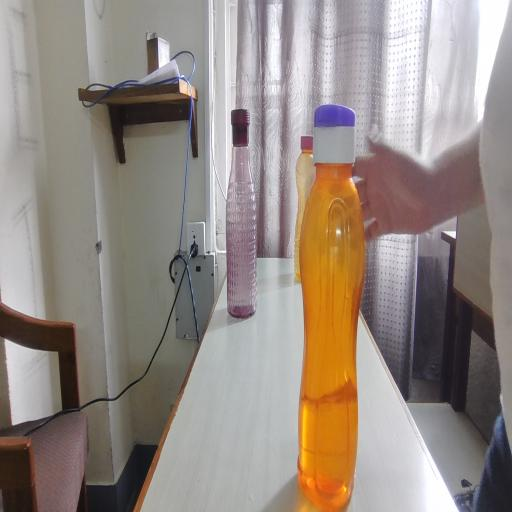Bottle: (300, 105, 371, 497), (224, 95, 263, 320), (293, 125, 316, 306)
